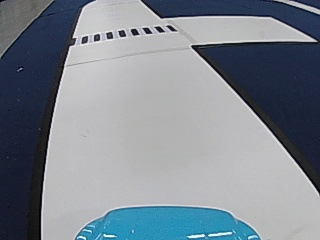CrossWalk: (72, 23, 176, 45)
